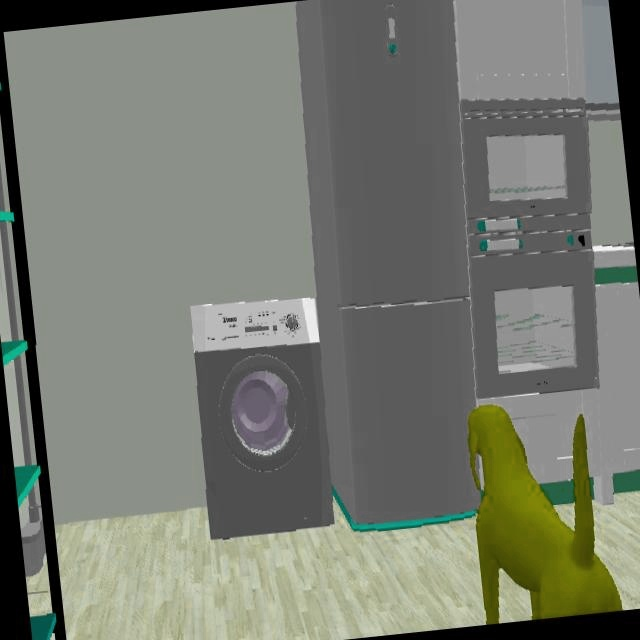cabinet: (453, 0, 619, 105), (595, 248, 640, 499)
countertop: (595, 242, 636, 273)
fridge: (295, 0, 481, 534)
microwave: (463, 109, 590, 234)
oven: (469, 229, 600, 398)
shelf: (0, 81, 63, 640)
